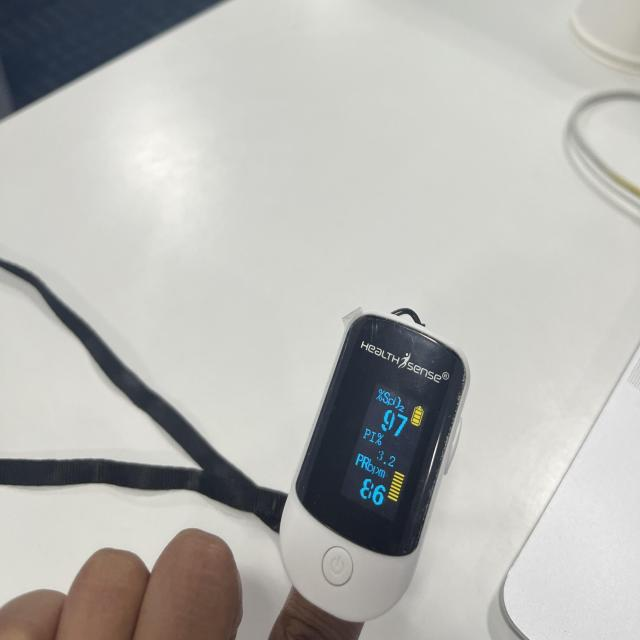spo2: (278, 312, 468, 631)
